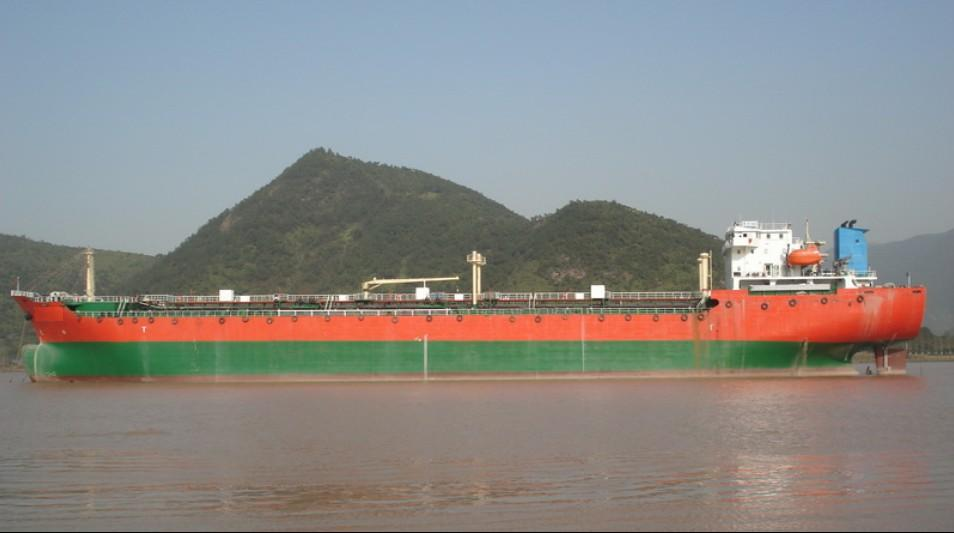Cargoship: (11, 206, 925, 382)
